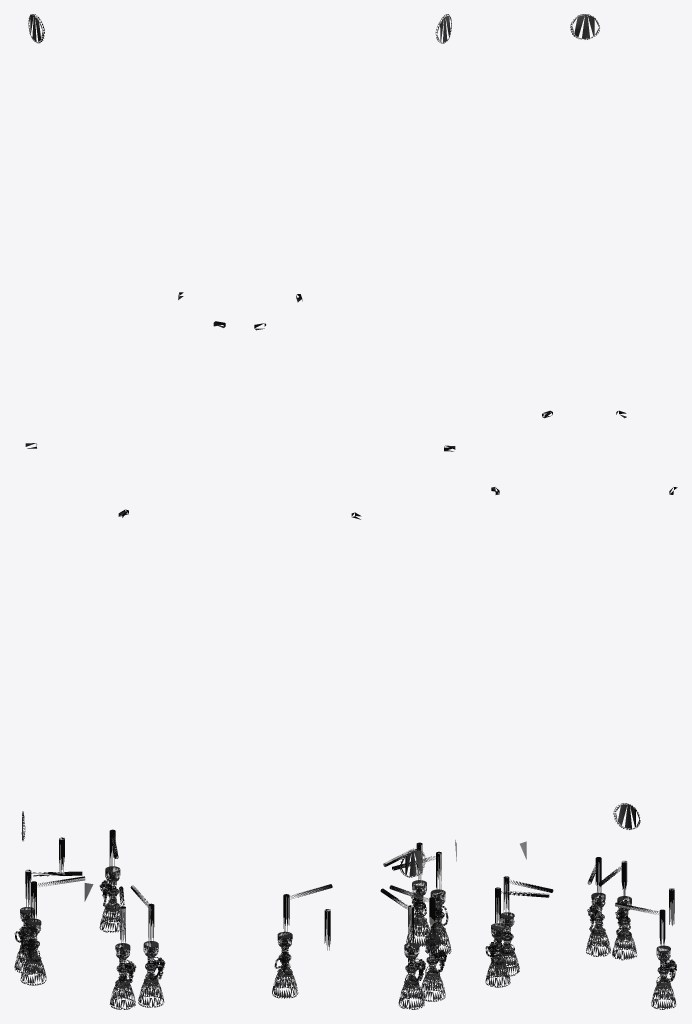
Rendered from ESP-Starship-Part-004.obj.
3 renders of one model, left to right at view 1: azimuth 30°, elevation 25°; view 2: azimuth 150°, elevation 25°; view 3: azimuth 270°, elevation 25°, orthographic. The views are drawn at different scales.
Visible parts, largest first — view 1: Booster__Superheavy_Block_3_V4_Cylinder.025; view 2: Booster__Superheavy_Block_3_V4_Cylinder.025; view 3: Booster__Superheavy_Block_3_V4_Cylinder.025.
Boxes of the visible parts, box(x1,y1,x2,y2) form: Booster__Superheavy_Block_3_V4_Cylinder.025: box(14, 14, 225, 1009); Booster__Superheavy_Block_3_V4_Cylinder.025: box(254, 14, 456, 1009); Booster__Superheavy_Block_3_V4_Cylinder.025: box(485, 14, 677, 1009).
Size of the model in its own units: 9.56 by 50.49 by 9.43.
1 material, 1 textured.
